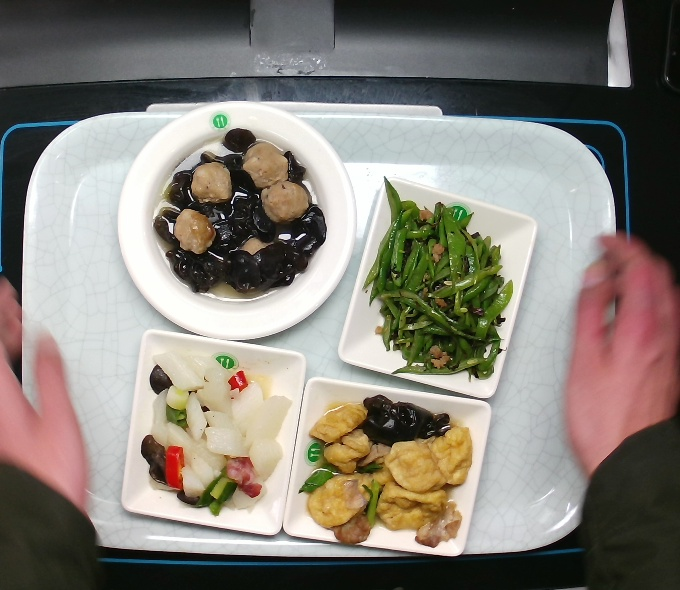wcq-MuErWanZi: (151, 126, 328, 297)
wcq-ShanYao: (137, 345, 293, 513)
wcq-SiJiDouChaoRou: (366, 203, 512, 380)
wcq-YouPaoRouPian: (295, 392, 475, 551)
